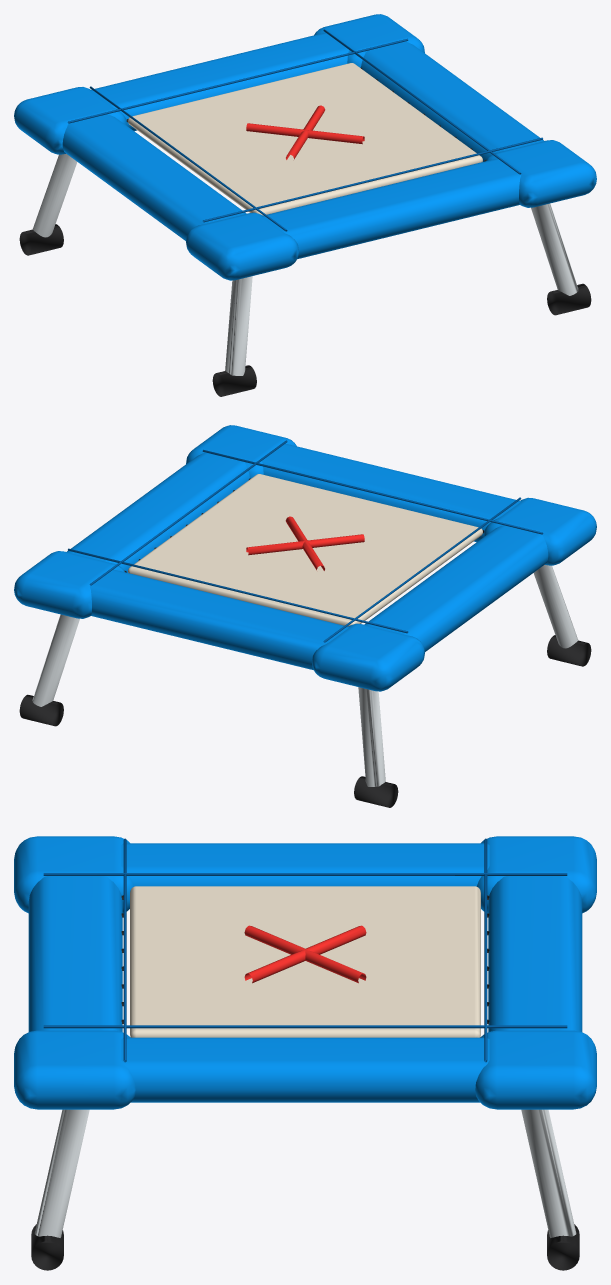
File: Minitrampolin_3D.glb
3 views of the same model, one above another, from view 1: azimuth 30°, elevation 25°; view 2: azimuth 150°, elevation 25°; view 3: azimuth 270°, elevation 25° (orthographic). The views are drawn at different scales.
Parts seen in each view (by area): view 1: Minitrampolin_3D__web_glossy_blue_mini_trampoline_vinyl_pad, Minitrampolin_3D__web_warm_woven_mini_trampoline_jumping_mat, Minitrampolin_3D__web_satin_chrome_mini_trampoline_frame_leg, Minitrampolin_3D__web_darker_blue_mini_trampoline_pad_seams, Minitrampolin_3D__web_black_mini_trampoline_spring_lacing_an, Minitrampolin_3D__web_red_center_cross_on_mini_trampoline_ma; view 2: Minitrampolin_3D__web_glossy_blue_mini_trampoline_vinyl_pad, Minitrampolin_3D__web_warm_woven_mini_trampoline_jumping_mat, Minitrampolin_3D__web_satin_chrome_mini_trampoline_frame_leg, Minitrampolin_3D__web_darker_blue_mini_trampoline_pad_seams, Minitrampolin_3D__web_black_mini_trampoline_spring_lacing_an, Minitrampolin_3D__web_red_center_cross_on_mini_trampoline_ma; view 3: Minitrampolin_3D__web_glossy_blue_mini_trampoline_vinyl_pad, Minitrampolin_3D__web_warm_woven_mini_trampoline_jumping_mat, Minitrampolin_3D__web_satin_chrome_mini_trampoline_frame_leg, Minitrampolin_3D__web_darker_blue_mini_trampoline_pad_seams, Minitrampolin_3D__web_red_center_cross_on_mini_trampoline_ma, Minitrampolin_3D__web_black_mini_trampoline_spring_lacing_an.
Boxes of the visible parts, x1,y1,x2,y2 form: Minitrampolin_3D__web_glossy_blue_mini_trampoline_vinyl_pad: (14,14,596,280); Minitrampolin_3D__web_warm_woven_mini_trampoline_jumping_mat: (128,63,482,215); Minitrampolin_3D__web_satin_chrome_mini_trampoline_frame_leg: (32,154,578,375); Minitrampolin_3D__web_darker_blue_mini_trampoline_pad_seams: (67,29,542,231); Minitrampolin_3D__web_black_mini_trampoline_spring_lacing_an: (19,67,591,396); Minitrampolin_3D__web_red_center_cross_on_mini_trampoline_ma: (246,105,364,159); Minitrampolin_3D__web_glossy_blue_mini_trampoline_vinyl_pad: (14,425,596,691); Minitrampolin_3D__web_warm_woven_mini_trampoline_jumping_mat: (128,474,482,626); Minitrampolin_3D__web_satin_chrome_mini_trampoline_frame_leg: (32,565,578,786); Minitrampolin_3D__web_darker_blue_mini_trampoline_pad_seams: (68,440,543,642); Minitrampolin_3D__web_black_mini_trampoline_spring_lacing_an: (19,478,591,807); Minitrampolin_3D__web_red_center_cross_on_mini_trampoline_ma: (246,516,364,570); Minitrampolin_3D__web_glossy_blue_mini_trampoline_vinyl_pad: (14,836,596,1109); Minitrampolin_3D__web_warm_woven_mini_trampoline_jumping_mat: (130,886,480,1037); Minitrampolin_3D__web_satin_chrome_mini_trampoline_frame_leg: (34,1109,576,1237); Minitrampolin_3D__web_darker_blue_mini_trampoline_pad_seams: (43,838,567,1062); Minitrampolin_3D__web_red_center_cross_on_mini_trampoline_ma: (244,925,366,983); Minitrampolin_3D__web_black_mini_trampoline_spring_lacing_an: (31,895,579,1270).
Bounding box in the file's own units: 1.18 × 0.4506 × 1.18.
